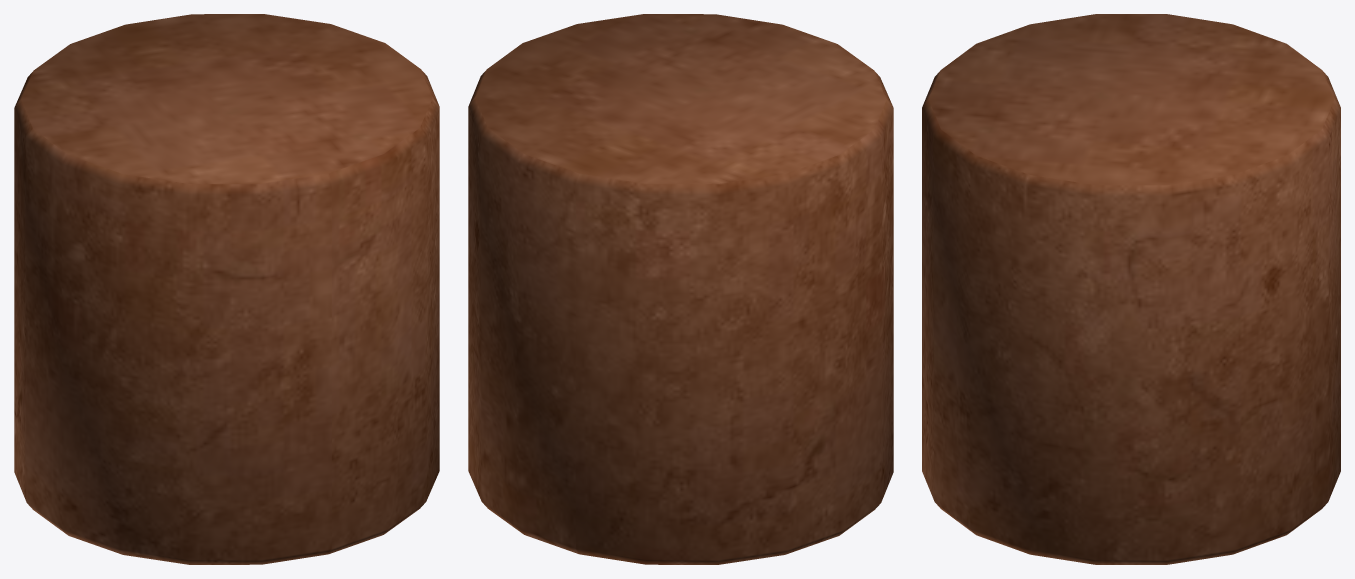
Rendered from kolonnaTwo.glb.
3 views of the same model, side by side, from view 1: azimuth 30°, elevation 25°; view 2: azimuth 150°, elevation 25°; view 3: azimuth 270°, elevation 25° (orthographic).
Parts seen in each view (by area): view 1: 4ast_kolonna_02; view 2: 4ast_kolonna_02; view 3: 4ast_kolonna_02.
Boxes of the visible parts, left/top/right/bottom form: 4ast_kolonna_02: left=14, top=14, right=439, bottom=564; 4ast_kolonna_02: left=468, top=14, right=893, bottom=564; 4ast_kolonna_02: left=922, top=14, right=1340, bottom=564.
Bounding box in the file's own units: 0.5 × 0.5 × 0.5.
1 material, 1 textured.
